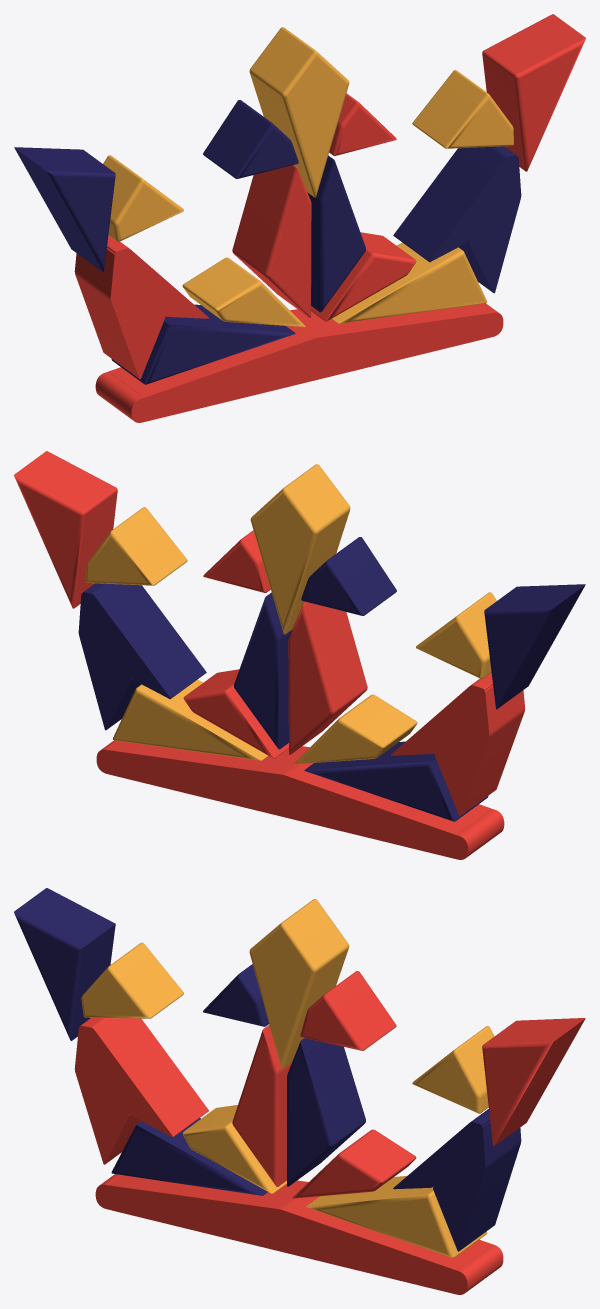
The model's file is qhacks_crown.gltf.
3 views of the same model, one above another, from view 1: azimuth 30°, elevation 25°; view 2: azimuth 150°, elevation 25°; view 3: azimuth 330°, elevation 25° (orthographic).
Visible parts, largest first — view 1: Boolean 2, Rectangle 21, Rectangle 10, Boolean, Rectangle 4, Rectangle 12, Rectangle 20, Rectangle 16, Rectangle, Rectangle 14, Rectangle 6, Rectangle 5 (+5 smaller); view 2: Boolean 2, Rectangle 21, Rectangle 10, Boolean, Rectangle 4, Rectangle 12, Rectangle 20, Rectangle 16, Rectangle, Rectangle 14, Rectangle 6, Rectangle 5 (+5 smaller); view 3: Boolean, Rectangle 21, Rectangle 10, Rectangle 20, Boolean 2, Rectangle 16, Rectangle 6, Rectangle 4, Rectangle, Rectangle 12, Rectangle 14, Rectangle 17 (+5 smaller).
Boxes of the visible parts, left/top/right/bottom form: Boolean 2: left=393, top=146, right=521, bottom=293; Rectangle 21: left=95, top=303, right=503, bottom=422; Rectangle 10: left=249, top=27, right=349, bottom=197; Boolean: left=74, top=235, right=208, bottom=378; Rectangle 4: left=482, top=14, right=585, bottom=171; Rectangle 12: left=232, top=165, right=311, bottom=317; Rectangle 20: left=108, top=304, right=491, bottom=397; Rectangle 16: left=14, top=147, right=115, bottom=272; Rectangle: left=332, top=242, right=486, bottom=323; Rectangle 14: left=111, top=304, right=295, bottom=384; Rectangle 6: left=307, top=155, right=365, bottom=312; Rectangle 5: left=412, top=70, right=513, bottom=148; Boolean 2: left=78, top=583, right=206, bottom=730; Rectangle 21: left=96, top=740, right=504, bottom=859; Rectangle 10: left=250, top=464, right=350, bottom=634; Boolean: left=391, top=672, right=525, bottom=815; Rectangle 4: left=14, top=451, right=117, bottom=608; Rectangle 12: left=288, top=602, right=367, bottom=754; Rectangle 20: left=108, top=741, right=491, bottom=834; Rectangle 16: left=484, top=584, right=585, bottom=709; Rectangle: left=113, top=679, right=267, bottom=760; Rectangle 14: left=304, top=741, right=488, bottom=821; Rectangle 6: left=234, top=592, right=292, bottom=749; Rectangle 5: left=86, top=507, right=187, bottom=585; Boolean: left=74, top=1018, right=208, bottom=1164; Rectangle 21: left=95, top=1174, right=503, bottom=1294; Rectangle 10: left=249, top=899, right=349, bottom=1069; Rectangle 20: left=108, top=1175, right=491, bottom=1270; Boolean 2: left=393, top=1109, right=521, bottom=1251; Rectangle 16: left=14, top=888, right=115, bottom=1040; Rectangle 6: left=287, top=1038, right=365, bottom=1186; Rectangle 4: left=482, top=1018, right=585, bottom=1146; Rectangle: left=306, top=1175, right=487, bottom=1258; Rectangle 12: left=232, top=1025, right=291, bottom=1186; Rectangle 14: left=111, top=1118, right=267, bottom=1195; Rectangle 17: left=81, top=942, right=183, bottom=1018.
Size of the model in its own units: 8.68 by 5.04 by 1.
